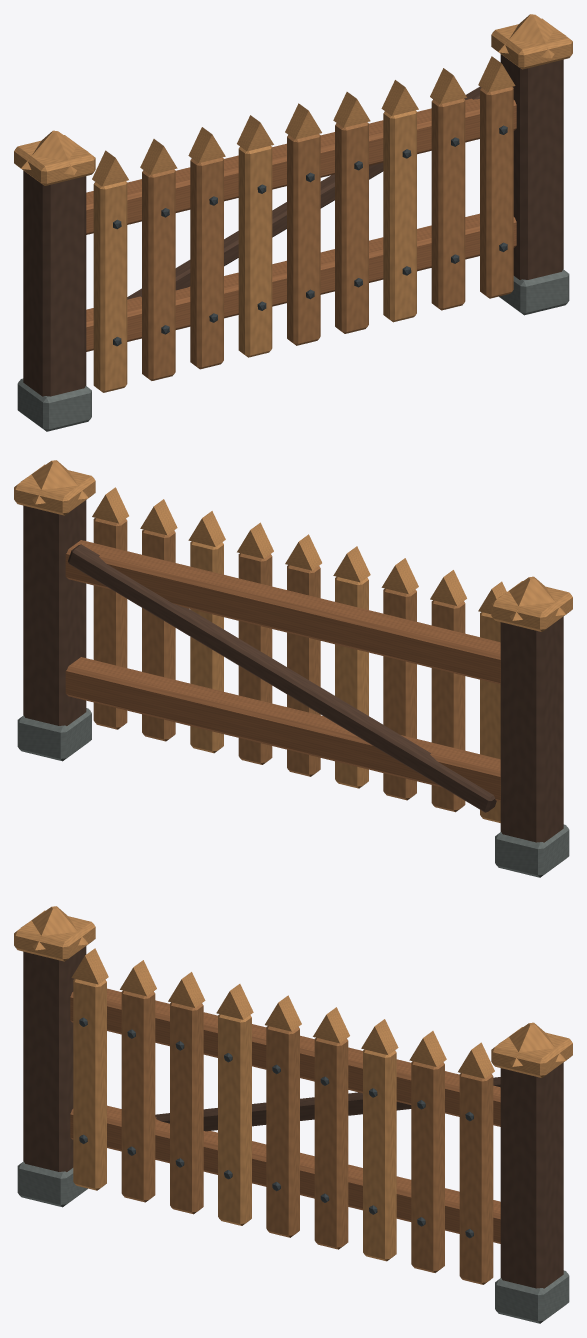
Rendered from fence_oak_panel.glb.
3 renders of one model, top to bottom at view 1: azimuth 30°, elevation 25°; view 2: azimuth 150°, elevation 25°; view 3: azimuth 330°, elevation 25°, orthographic.
Visible parts, largest first — view 1: fence_oak_panel; view 2: fence_oak_panel; view 3: fence_oak_panel.
Boxes of the visible parts, x1,y1,x2,y2 form: fence_oak_panel: (14,14,572,431); fence_oak_panel: (14,460,572,877); fence_oak_panel: (14,906,572,1323).
Size of the model in its own units: 2 by 1 by 0.25.
1 material, 1 textured.
